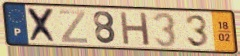3: (152, 10, 180, 50), (184, 14, 210, 48)
8: (92, 11, 117, 45)
H: (118, 10, 152, 47)
X: (25, 6, 60, 44)
Z: (57, 8, 89, 45)
